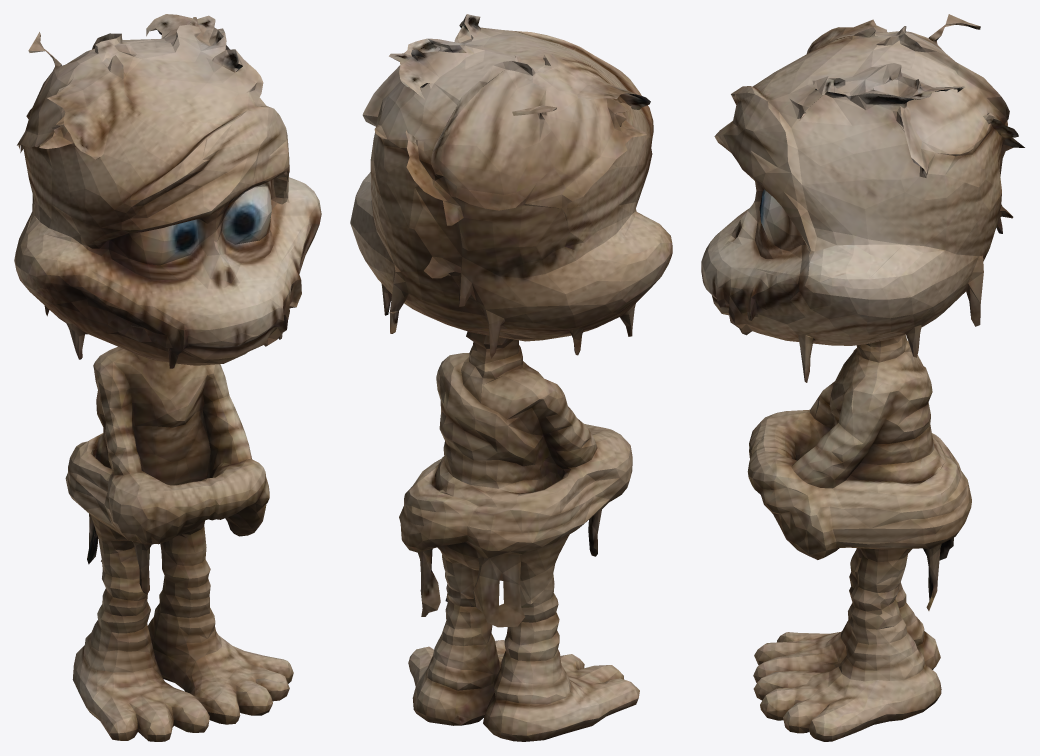
Rendered from p_mummy.glb.
3 renders of one model, left to right at view 1: azimuth 30°, elevation 25°; view 2: azimuth 150°, elevation 25°; view 3: azimuth 270°, elevation 25°, orthographic. The views are drawn at different scales.
Parts seen in each view (by area): view 1: world; view 2: world; view 3: world.
Part boxes in pixels (bbox=[...]): world: bbox=[14, 14, 321, 741]; world: bbox=[350, 14, 672, 741]; world: bbox=[701, 14, 1024, 741].
Size of the model in its own units: 0.4596 by 0.9976 by 0.4542.
Materials: 1 (1 with a texture image).
